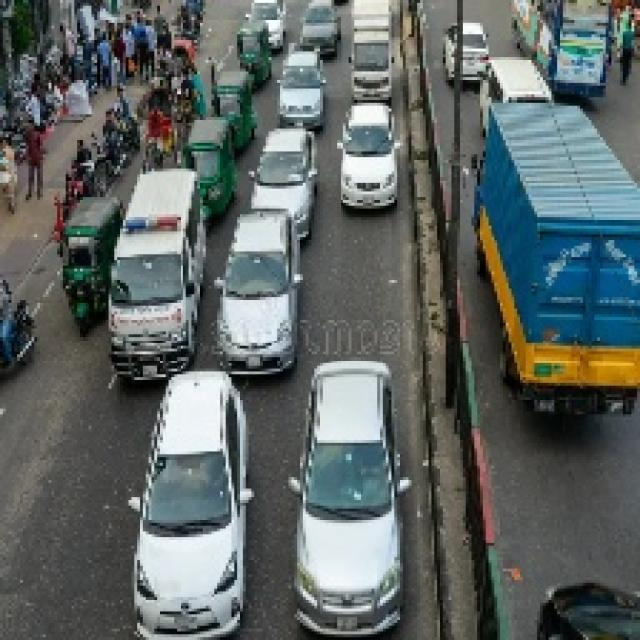bike: (97, 130, 128, 191)
car: (123, 370, 252, 638), (295, 356, 403, 616), (104, 172, 212, 383), (220, 212, 300, 369), (335, 103, 399, 217), (248, 128, 318, 226), (139, 85, 189, 164), (276, 53, 326, 127), (440, 15, 492, 83), (293, 9, 341, 51)
